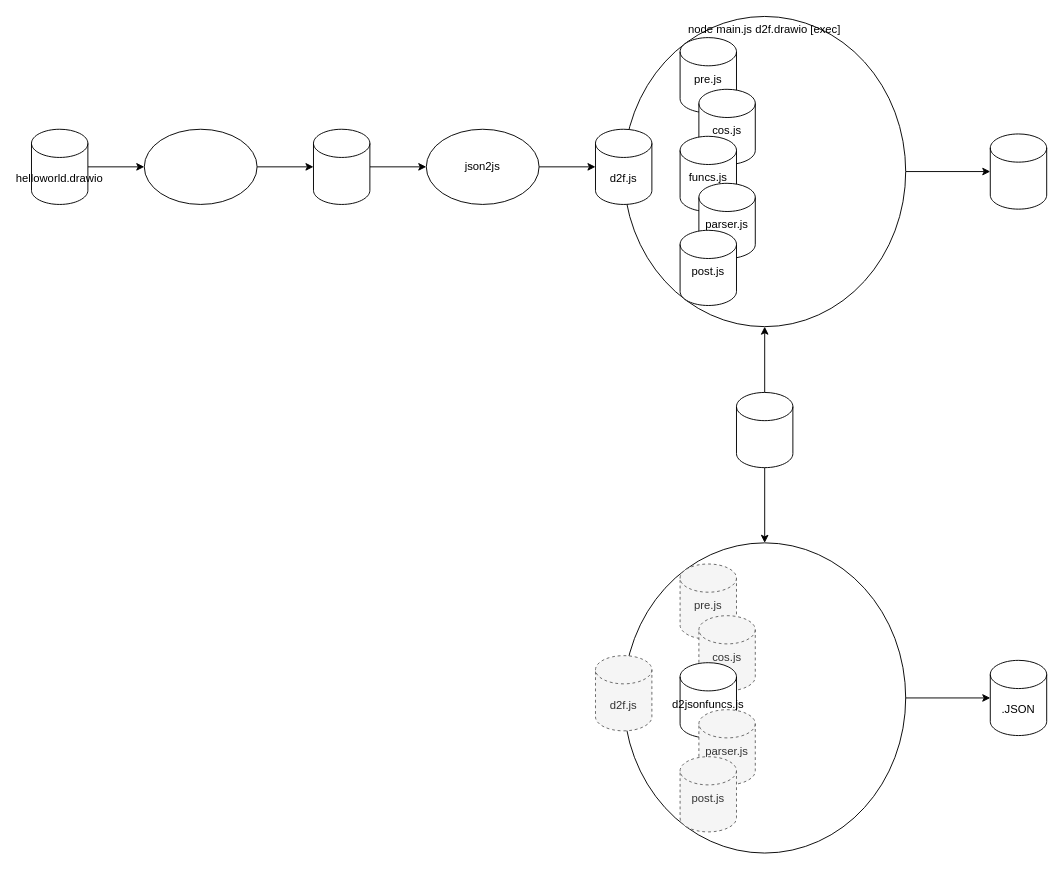
Image size: 1063x870. Some labels were removed from this diagram. Here are the shapes that lost their labels. From the top down, the box of each, then its label:
(143, 128, 257, 204): das2json
(313, 128, 370, 204): d2f.json
(989, 133, 1047, 209): factbase
(736, 392, 793, 468): d2f.drawio
(623, 542, 906, 853): d2json [exec]
